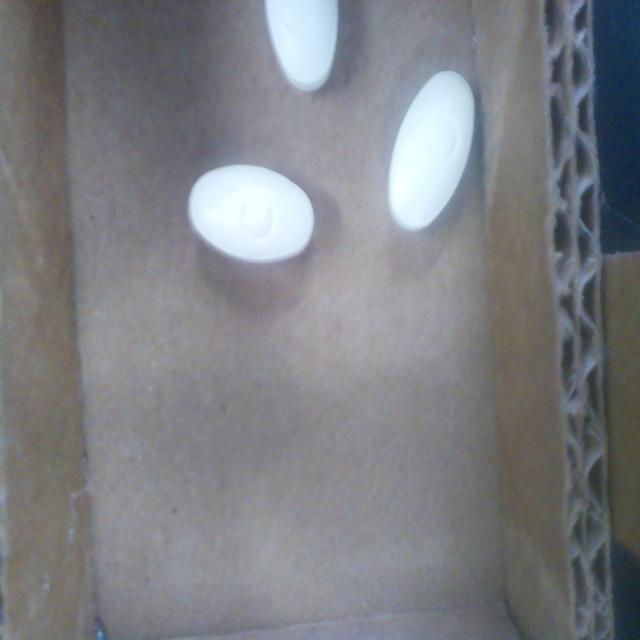pill: (388, 71, 475, 231), (188, 165, 314, 263), (265, 0, 338, 91)
